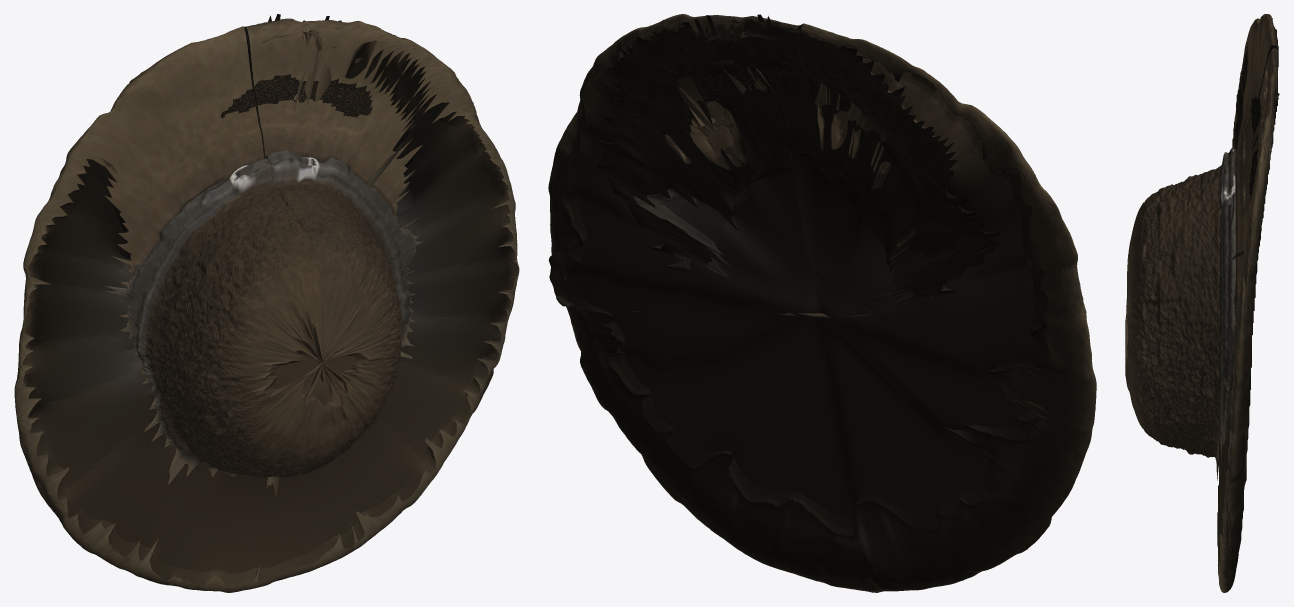
The model's file is mesh_inpaint.glb.
3 renders of one model, left to right at view 1: azimuth 30°, elevation 25°; view 2: azimuth 150°, elevation 25°; view 3: azimuth 270°, elevation 25°, orthographic. The views are drawn at different scales.
Visible parts, largest first — view 1: ipn, fill; view 2: fill, ipn; view 3: ipn, fill.
Boxes of the visible parts, x1=… form: ipn: x1=14, y1=14, x2=519, y2=592; fill: x1=22, y1=20, x2=519, y2=587; fill: x1=554, y1=19, x2=1050, y2=535; ipn: x1=548, y1=14, x2=1096, y2=592; ipn: x1=1125, y1=14, x2=1278, y2=592; fill: x1=1125, y1=43, x2=1279, y2=578.
Size of the model in its own units: 1.85 by 1.9 by 0.508.
2 materials, 1 textured.
